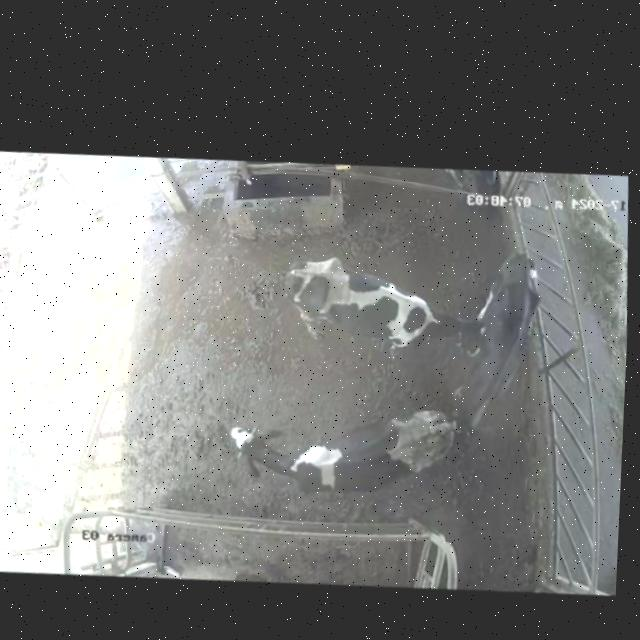stand: (210, 357, 458, 517), (272, 238, 490, 372), (443, 244, 557, 444)
